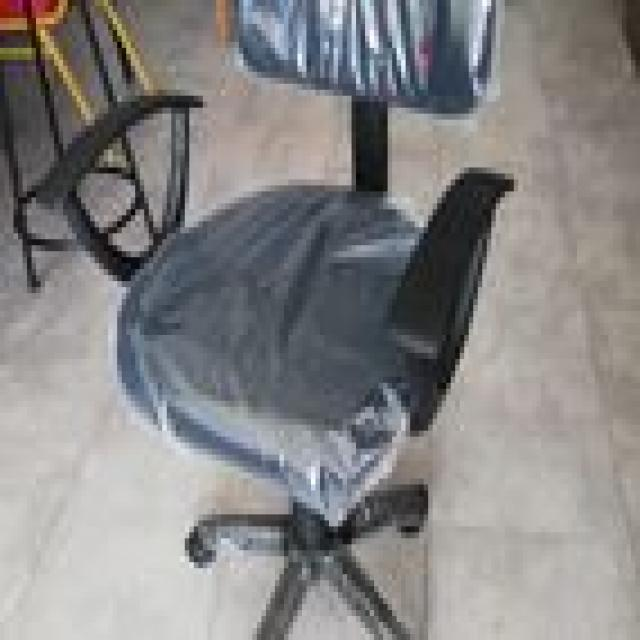others: (18, 6, 532, 640)
